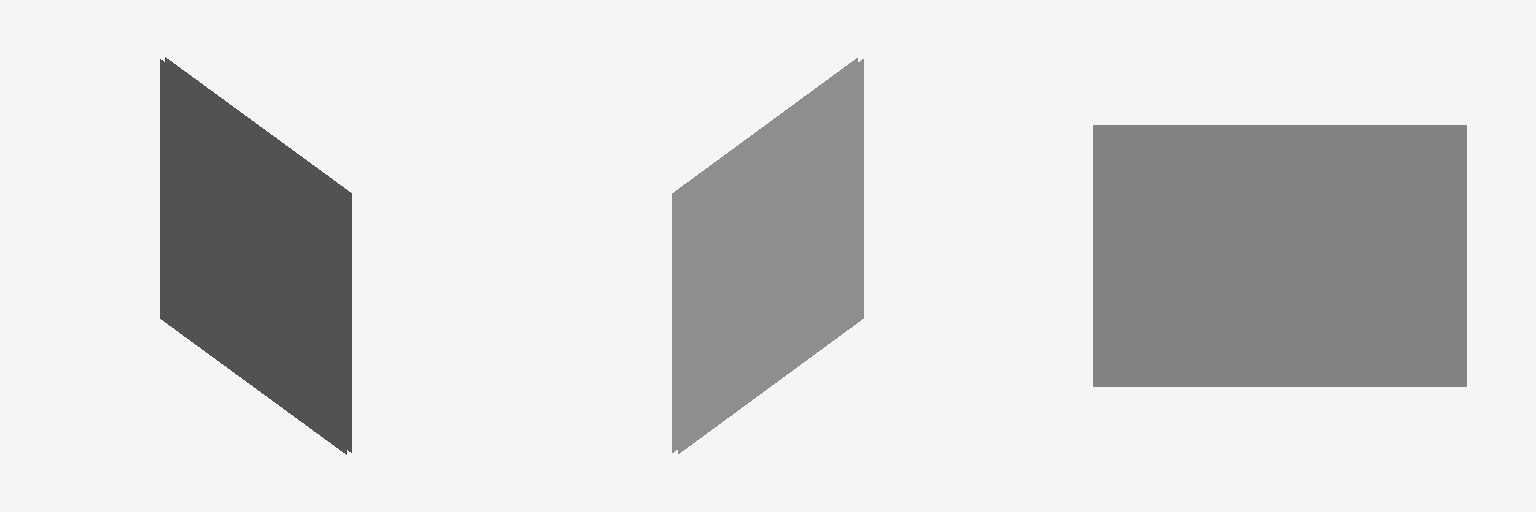
File: readhead.obj
The picture shows the model from 3 angles: view 1: azimuth 30°, elevation 25°; view 2: azimuth 150°, elevation 25°; view 3: azimuth 270°, elevation 25°; orthographic projection.
Size of the model in its own units: 0.5199 by 22.31 by 29.03.